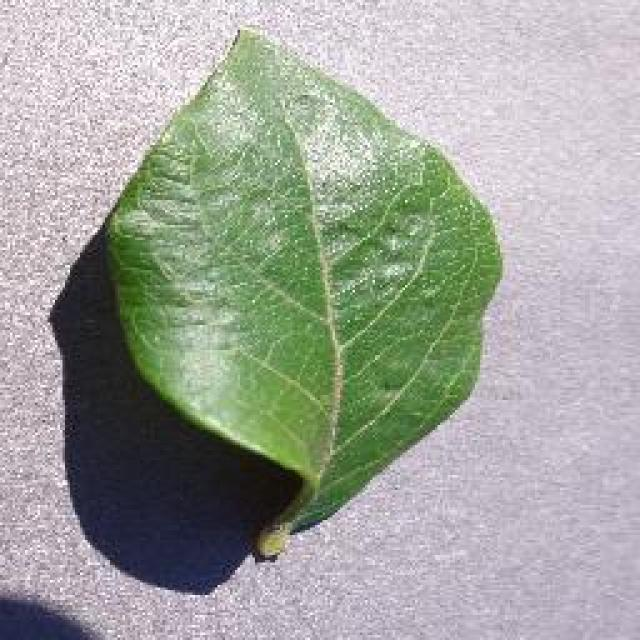Blu_healthy: (112, 85, 476, 443)
